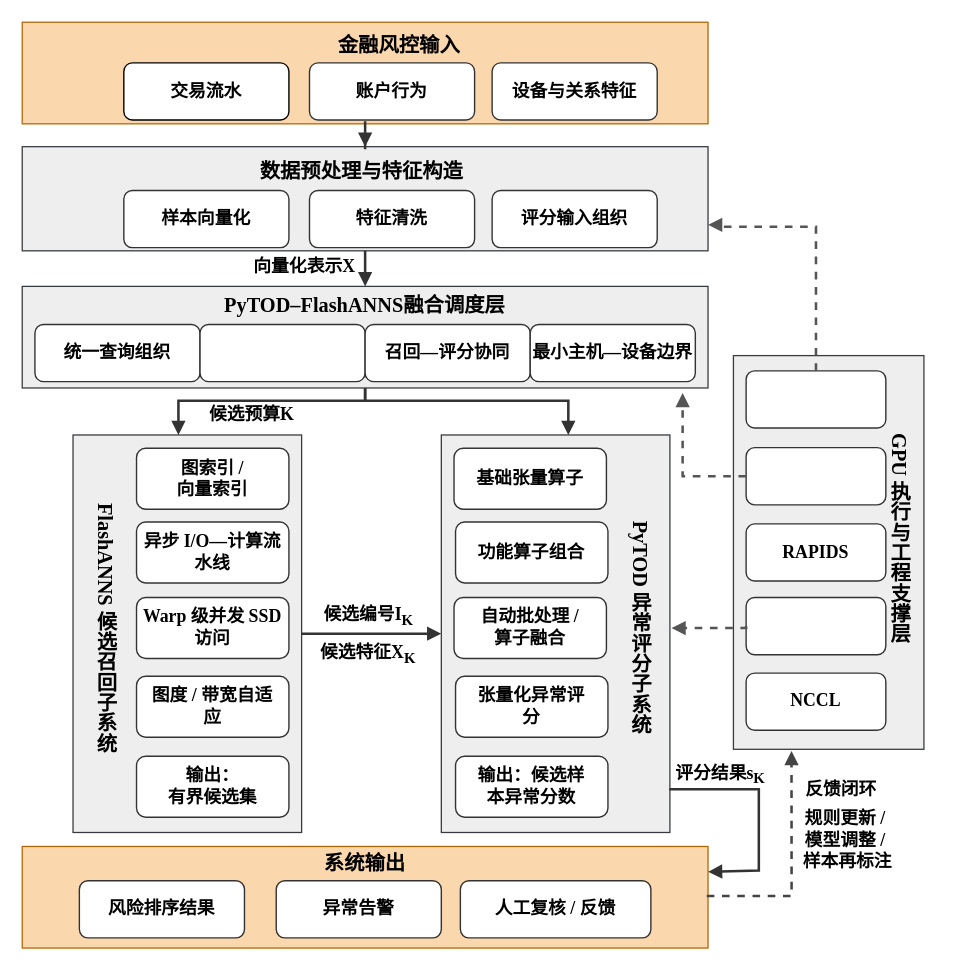
This 959x970 diagram has some shape labels left out. Each missing label, with the centre of its shape:
CUDA: pixel 815 475
FAISS–GPU: pixel 815 625
PyTorch: pixel 815 399
候选路由: pixel 282 352
